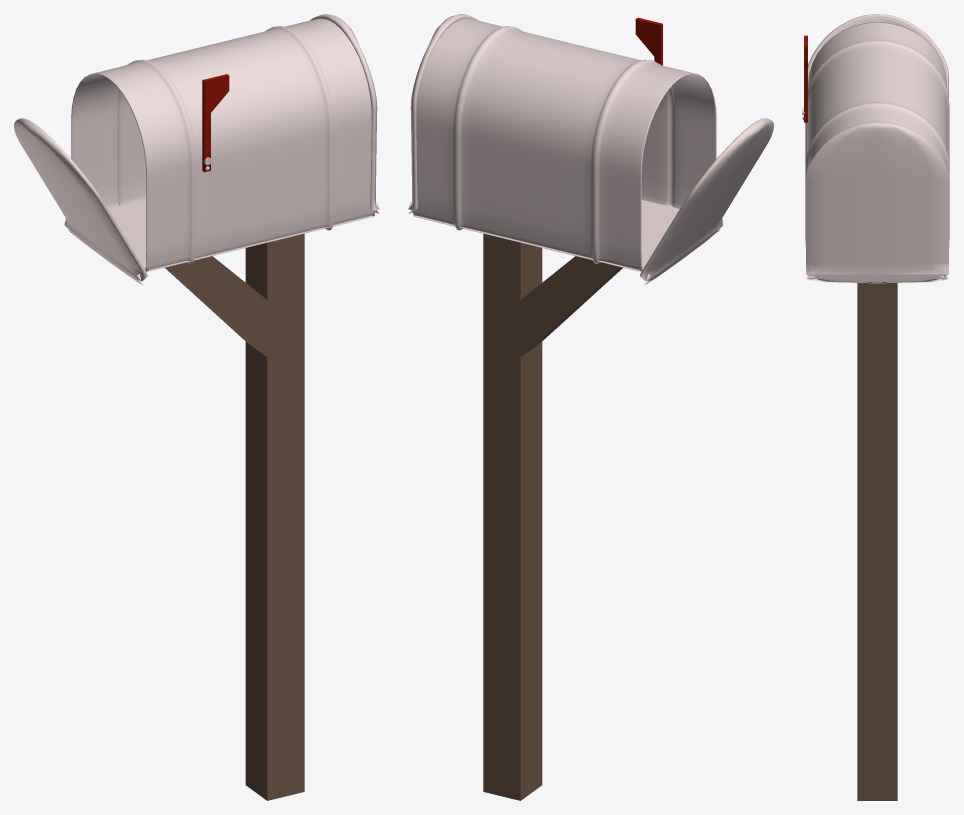
Rendered from MailboxNew.fbx.
3 views of the same model, side by side, from view 1: azimuth 30°, elevation 25°; view 2: azimuth 150°, elevation 25°; view 3: azimuth 270°, elevation 25° (orthographic). The views are drawn at different scales.
Parts seen in each view (by area): view 1: polySurface2; view 2: polySurface2; view 3: polySurface2.
Boxes of the visible parts, x1,y1,x2,y2 form: polySurface2: [14, 14, 379, 800]; polySurface2: [408, 14, 773, 800]; polySurface2: [802, 14, 949, 800].
Size of the model in its own units: 14.06 by 32.65 by 6.16.
